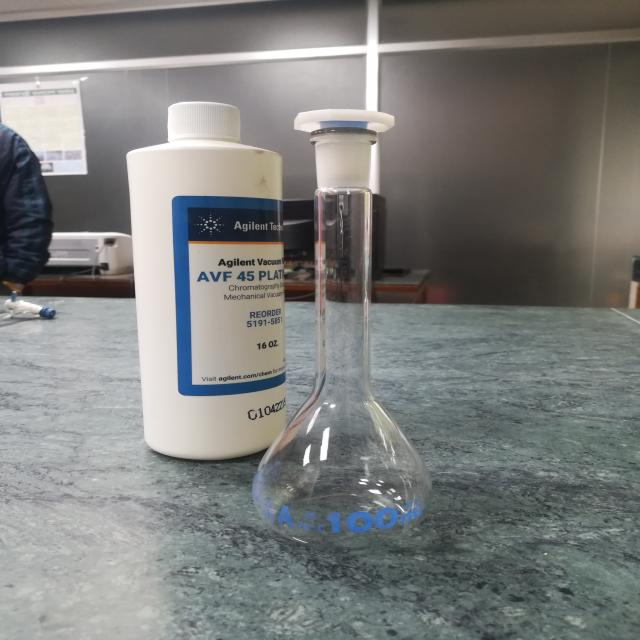Volumetric_Flask: (248, 70, 466, 550)
